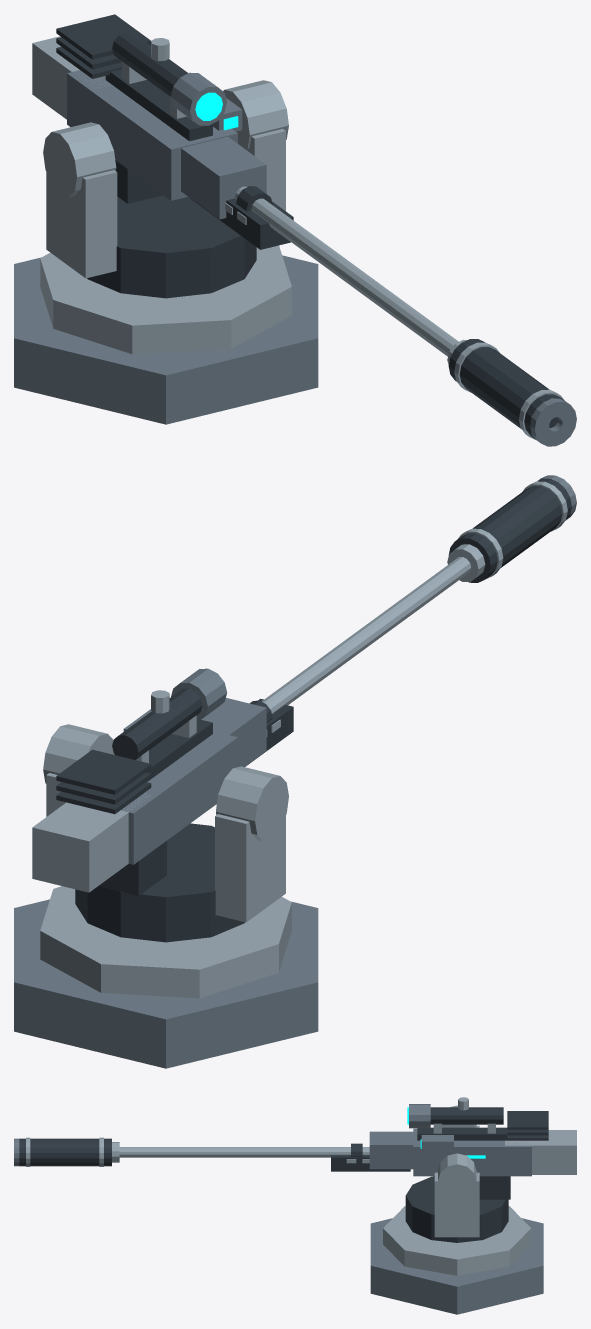
File: needle_t2.glb
3 renders of one model, top to bottom at view 1: azimuth 30°, elevation 25°; view 2: azimuth 150°, elevation 25°; view 3: azimuth 270°, elevation 25°, orthographic. The views are drawn at different scales.
Parts seen in each view (by area): view 1: Foundation, Base upper armor, Yaw bearing, Elevation fork (×2), Receiver, Trunnion (×2), Precision barrel, Slim receiver shroud, Signature suppressor, Rear radiator (×3), Rear equipment, Optic rail (+6 smaller); view 2: Foundation, Base upper armor, Yaw bearing, Receiver, Rear equipment, Elevation fork, Trunnion (×2), Signature suppressor, Precision barrel, Rear radiator (×3), Long range optic, Slim receiver shroud (+5 smaller); view 3: Foundation, Base upper armor, Receiver, Yaw bearing, Precision barrel, Signature suppressor, Elevation fork, Rear equipment, Slim receiver shroud, Trunnion, Long range optic, Rear radiator (×2) (+5 smaller).
Part boxes in pixels (<box>): Foundation: <box>14,255,318,424</box>; Base upper armor: <box>40,245,291,354</box>; Yaw bearing: <box>87,195,256,298</box>; Elevation fork (×2): <box>46,129,285,278</box>; Receiver: <box>67,70,237,200</box>; Trunnion (×2): <box>43,80,288,197</box>; Precision barrel: <box>235,186,458,356</box>; Slim receiver shroud: <box>181,137,266,219</box>; Signature suppressor: <box>448,339,564,439</box>; Rear radiator (×3): <box>56,14,150,78</box>; Rear equipment: <box>32,36,110,119</box>; Optic rail: <box>105,69,212,141</box>; Foundation: <box>14,899,318,1068</box>; Base upper armor: <box>40,886,291,998</box>; Yaw bearing: <box>75,823,244,942</box>; Receiver: <box>121,731,237,864</box>; Rear equipment: <box>32,793,149,892</box>; Elevation fork: <box>215,814,285,922</box>; Trunnion (×2): <box>43,724,288,841</box>; Signature suppressor: <box>448,478,571,582</box>; Precision barrel: <box>261,557,471,713</box>; Rear radiator (×3): <box>56,749,151,814</box>; Long range optic: <box>112,688,202,759</box>; Slim receiver shroud: <box>201,698,266,766</box>; Foundation: <box>370,1218,543,1314</box>; Base upper armor: <box>383,1206,531,1275</box>; Receiver: <box>413,1128,531,1176</box>; Yaw bearing: <box>405,1176,508,1242</box>; Precision barrel: <box>119,1147,369,1157</box>; Signature suppressor: <box>19,1138,111,1166</box>; Elevation fork: <box>434,1172,479,1237</box>; Rear equipment: <box>505,1130,576,1174</box>; Slim receiver shroud: <box>369,1131,413,1169</box>; Trunnion: <box>438,1153,476,1199</box>; Long range optic: <box>430,1107,503,1124</box>; Rear radiator (×2): <box>507,1111,548,1135</box>.
Size of the model in its own units: 1.55 by 1.48 by 4.37.
